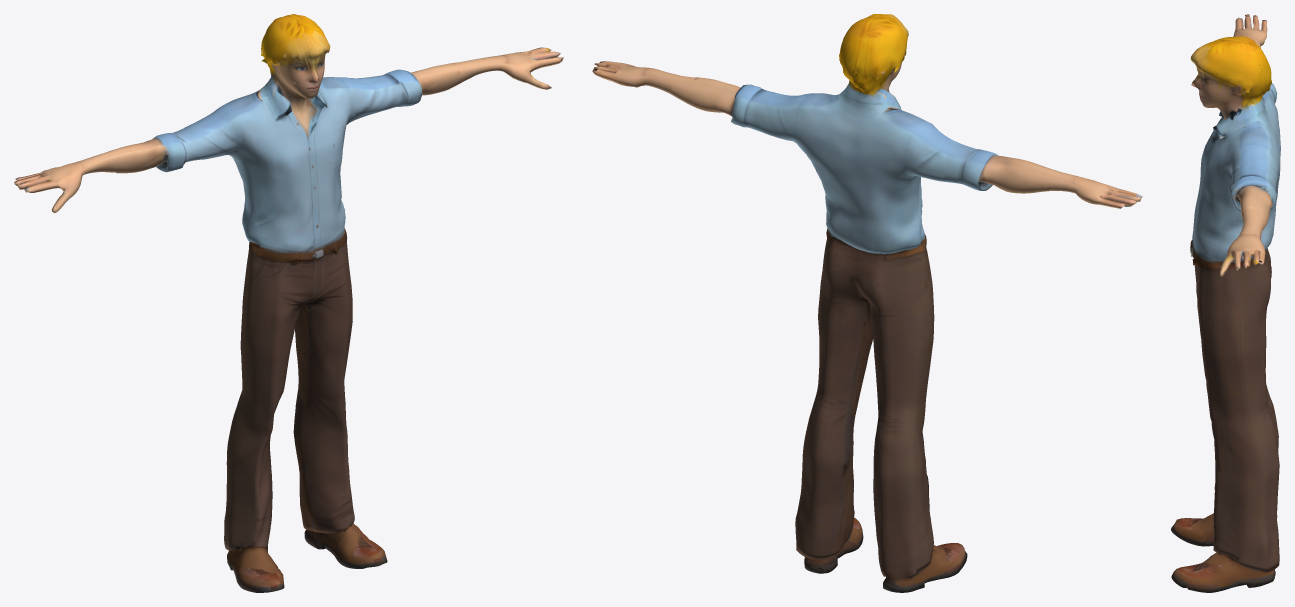
The model's file is a_humanoid_character__0420202904_texture.fbx.
3 renders of one model, left to right at view 1: azimuth 30°, elevation 25°; view 2: azimuth 150°, elevation 25°; view 3: azimuth 270°, elevation 25°, orthographic. The views are drawn at different scales.
Parts seen in each view (by area): view 1: Mesh1; view 2: Mesh1; view 3: Mesh1.
Part boxes in pixels (<box>): Mesh1: <box>14,14,563,592</box>; Mesh1: <box>592,14,1142,592</box>; Mesh1: <box>1171,14,1280,592</box>.
Bounding box in the file's own units: 177 × 170 × 32.45.
Materials: 1 (1 with a texture image).
